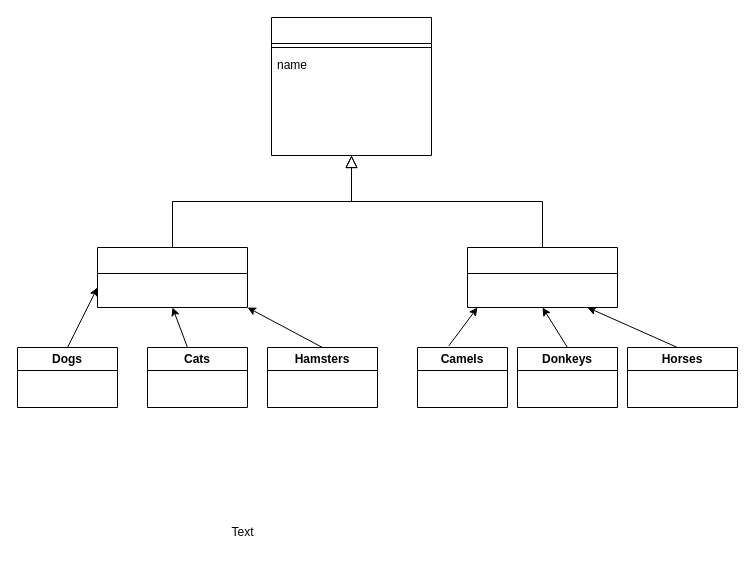
Some shapes in this 755 by 565 pixel diagram are drawn without their labels. The box of each missing label's shape, as (x1, y1, x2, y2) in pixels:
Animals: (270, 16, 432, 156)
Pack_animals: (466, 246, 618, 308)
Pets: (96, 246, 248, 308)
